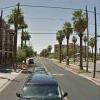Palm tree: (50, 11, 88, 67)
